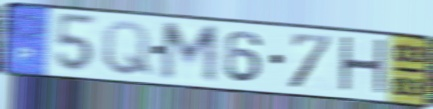5: (52, 11, 100, 77)
6: (224, 29, 264, 85)
7: (288, 32, 335, 91)
H: (336, 34, 389, 100)
M: (158, 20, 221, 87)
Q: (101, 19, 155, 79)
